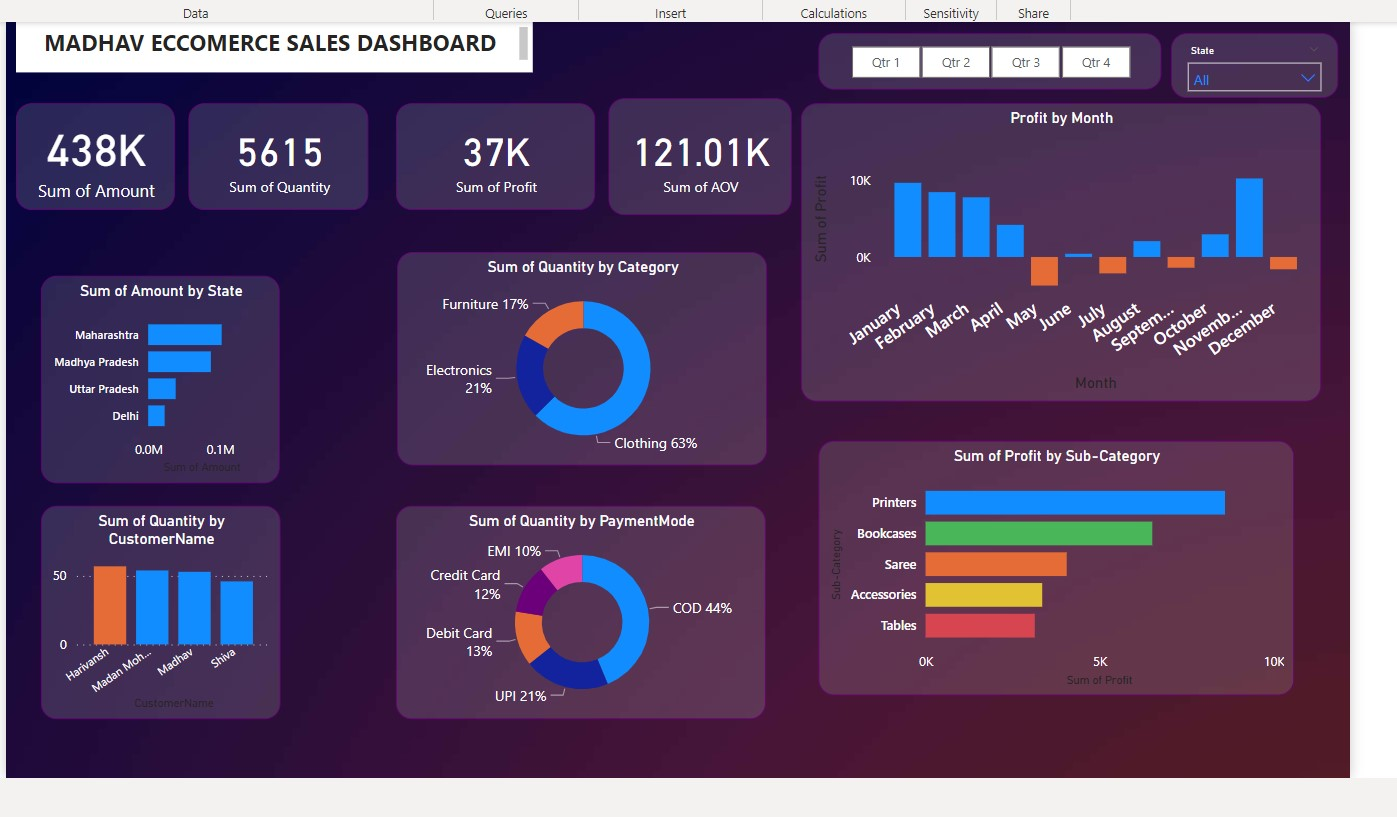

Layout of this report page (visuals, bound fields, positions):
{"tool":"powerbi","page":{"name":"Page 1","canvas":[1280,720],"ordinal":0},"visuals":[{"type":"textbox","box":[9.6,0,492.2,48],"z":0},{"type":"columnChart","title":" Profit by Month","fields":{"Category":["Orders.Order Date.Variation.Date Hierarchy.Month"],"Y":["Details.Profit"]},"box":[756.8,76.8,494.9,283.8],"z":1000},{"type":"barChart","fields":{"Category":["Details.Sub-Category"],"Y":["Details.Profit"]},"box":[773.3,399,452.4,242.7],"z":2000},{"type":"donutChart","fields":{"Category":["Details.Category"],"Y":["Details.Quantity"]},"box":[372.9,219.4,352.4,202.9],"z":2001},{"type":"donutChart","fields":{"Category":["Details.PaymentMode"],"Y":["Details.Quantity"]},"box":[371.6,460.7,352.4,202.9],"z":2002},{"type":"card","fields":{"Values":["Details.Amount"]},"box":[9.6,76.8,150.8,101.5],"z":2003},{"type":"card","fields":{"Values":["Details.Quantity"]},"box":[174.1,76.8,171.4,101.5],"z":2004},{"type":"card","fields":{"Values":["Details.Profit"]},"box":[371.6,76.8,189.2,101.5],"z":2005},{"type":"card","fields":{"Values":["Details.AOV"]},"box":[573.1,72.7,174.1,111.1],"z":2006},{"type":"barChart","fields":{"Category":["Orders.State"],"Y":["Details.Amount"]},"box":[32.9,241.3,227.6,197.4],"z":2007},{"type":"columnChart","fields":{"Category":["Orders.CustomerName"],"Y":["Details.Quantity"]},"box":[33,461,228,203],"z":2008},{"type":"slicer","fields":{"Values":["Orders.Order Date.Variation.Date Hierarchy.Quarter"]},"box":[773.3,11,326.3,53.5],"z":2009},{"type":"slicer","fields":{"Values":["Orders.State"]},"box":[1109.2,11,159,61.7],"z":2010}]}

Visuals, with their boxes on the page's 1280x720 design canvas (x1, y1, x2, y2). These are canvas units, not pixel positions in the 1397x817 screenshot, which may show the page scaled, cropped or inside an application window:
textbox: locate(10, 0, 502, 48)
" Profit by Month" columnChart: locate(757, 77, 1252, 361)
barChart - Details.Sub-Category x Details.Profit: locate(773, 399, 1226, 642)
donutChart - Details.Category x Details.Quantity: locate(373, 219, 725, 422)
donutChart - Details.PaymentMode x Details.Quantity: locate(372, 461, 724, 664)
card - Details.Amount: locate(10, 77, 160, 178)
card - Details.Quantity: locate(174, 77, 346, 178)
card - Details.Profit: locate(372, 77, 561, 178)
card - Details.AOV: locate(573, 73, 747, 184)
barChart - Orders.State x Details.Amount: locate(33, 241, 260, 439)
columnChart - Orders.CustomerName x Details.Quantity: locate(33, 461, 261, 664)
slicer - Orders.Order Date.Variation.Date Hierarchy.Quarter: locate(773, 11, 1100, 64)
slicer - Orders.State: locate(1109, 11, 1268, 73)
